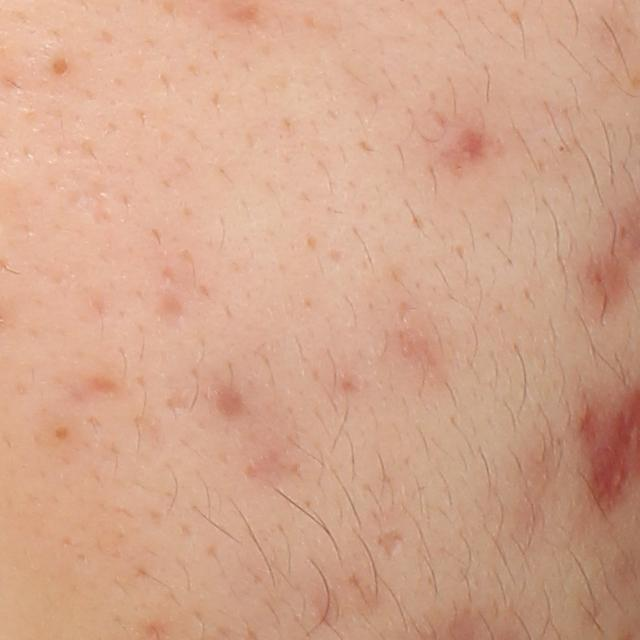atrophic_scar: (57, 374, 123, 424), (243, 448, 301, 483), (156, 294, 189, 332), (373, 527, 409, 561)
comedo: (38, 42, 82, 87)
